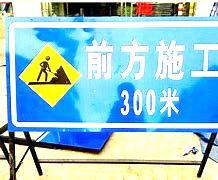sign: (9, 20, 218, 131)
